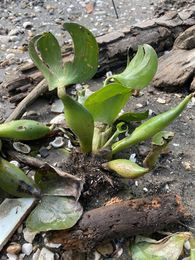water_hyacinth: (22, 14, 195, 186)
